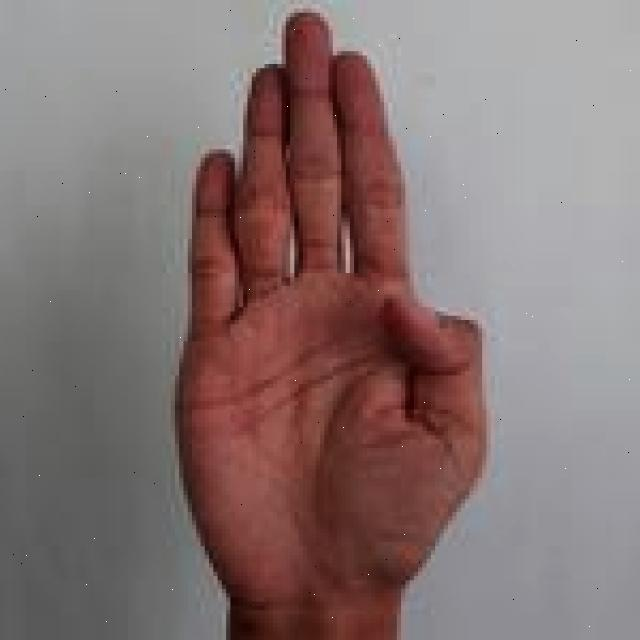B: (177, 7, 492, 640)
